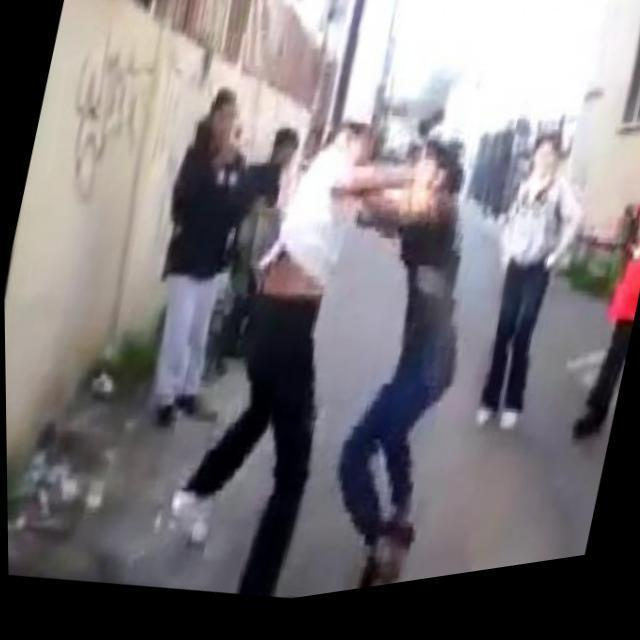fight: (170, 83, 512, 620)
